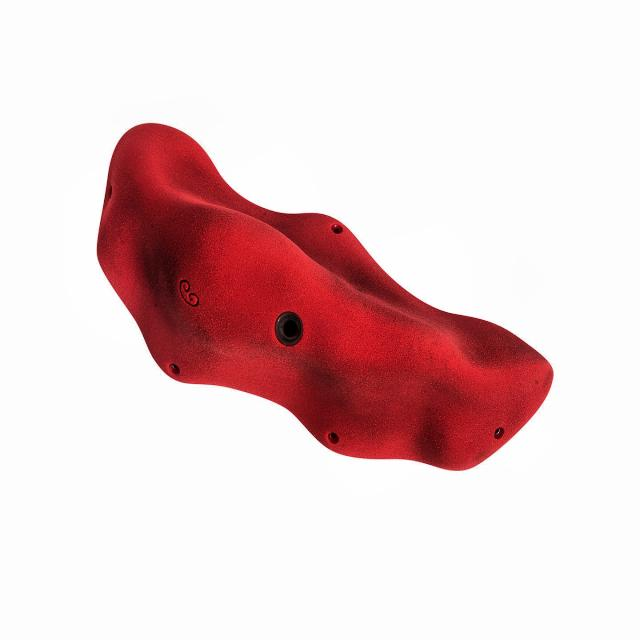Hold: (70, 110, 576, 495)
